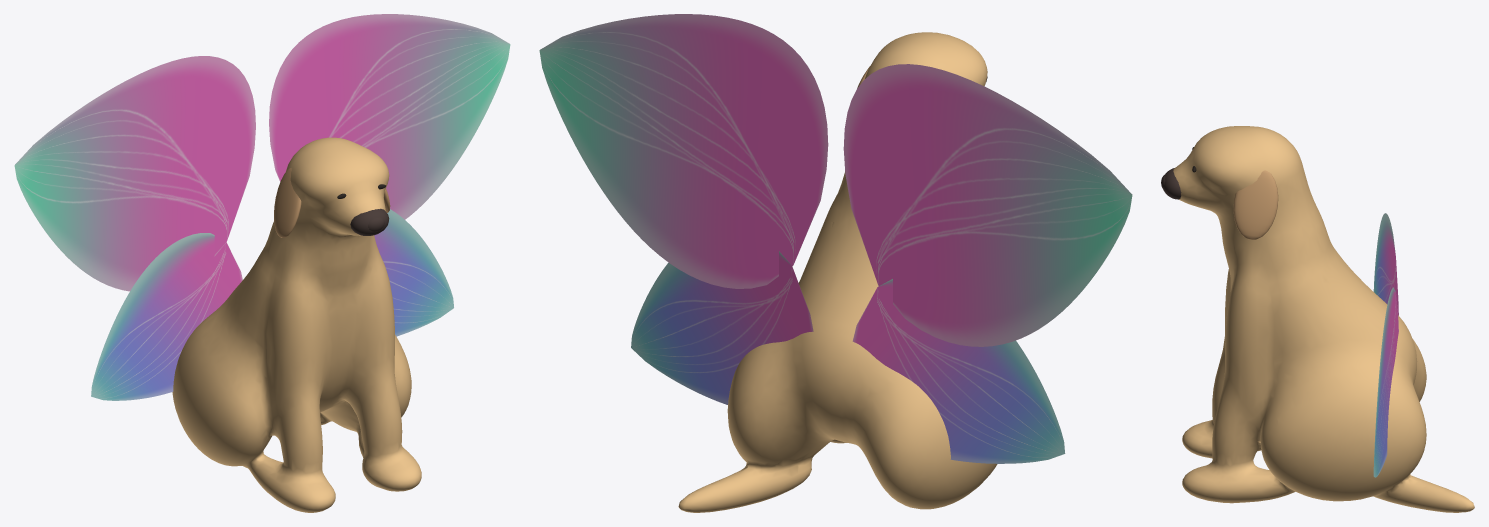
Rendered from chien_papillon.fbx.
The picture shows the model from 3 angles, left to right: view 1: azimuth 30°, elevation 25°; view 2: azimuth 150°, elevation 25°; view 3: azimuth 270°, elevation 25°; orthographic projection. The views are drawn at different scales.
Parts seen in each view (by area): view 1: Chien, Aile_Haute_G, Aile_Haute_D, Aile_Basse_G, Aile_Basse_D, Oreille_G, Museau_sombre; view 2: Aile_Haute_D, Aile_Haute_G, Chien, Aile_Basse_G, Aile_Basse_D; view 3: Chien, Aile_Basse_D, Oreille_D, Aile_Basse_G, Museau_sombre.
Boxes of the visible parts, left/top/right/bottom form: Chien: left=172, top=137, right=421, bottom=512; Aile_Haute_G: left=14, top=56, right=255, bottom=291; Aile_Haute_D: left=269, top=14, right=510, bottom=219; Aile_Basse_G: left=91, top=233, right=242, bottom=400; Aile_Basse_D: left=374, top=209, right=453, bottom=336; Oreille_G: left=274, top=168, right=301, bottom=237; Museau_sombre: left=350, top=208, right=389, bottom=235; Aile_Haute_D: left=539, top=14, right=828, bottom=288; Aile_Haute_G: left=843, top=64, right=1132, bottom=346; Chien: left=678, top=32, right=997, bottom=512; Aile_Basse_G: left=852, top=279, right=1065, bottom=463; Aile_Basse_D: left=631, top=251, right=813, bottom=404; Chien: left=1173, top=126, right=1474, bottom=512; Aile_Basse_D: left=1373, top=287, right=1398, bottom=477; Oreille_D: left=1233, top=170, right=1278, bottom=239; Aile_Basse_G: left=1373, top=213, right=1398, bottom=315; Museau_sombre: left=1163, top=168, right=1181, bottom=199.
Bounding box in the file's own units: 1.25 × 0.9606 × 0.6816.
Materials: 8 (4 with a texture image).
